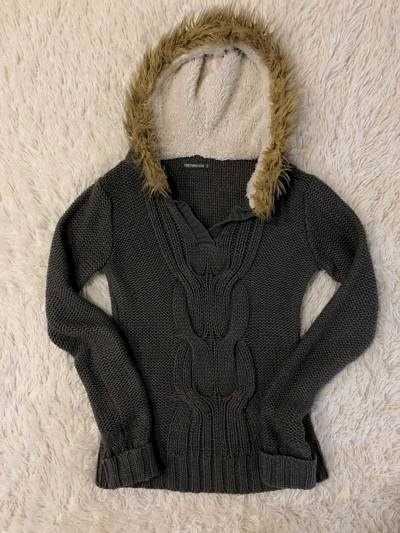Hoodie: (35, 27, 385, 503)
